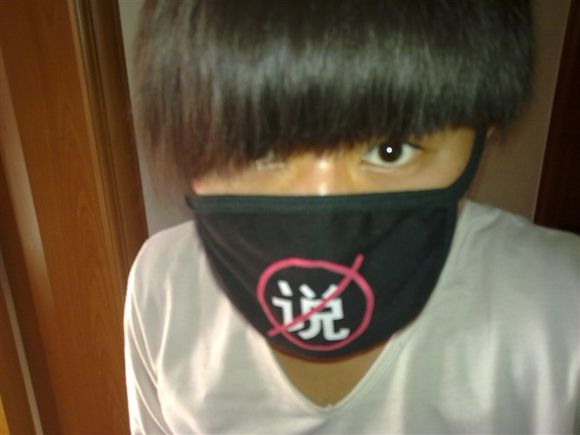face_mask: (190, 37, 461, 350)
